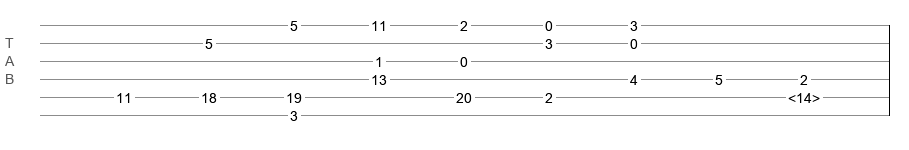0: (460, 54, 468, 64), (545, 18, 553, 28), (630, 36, 638, 46)
1: (375, 54, 383, 64)
11: (116, 90, 132, 100), (371, 18, 387, 28)
13: (371, 72, 387, 82)
18: (201, 90, 217, 100)
19: (286, 90, 302, 100)
2: (460, 18, 468, 28), (545, 90, 553, 100), (800, 72, 808, 82)
20: (456, 90, 472, 100)
3: (290, 108, 298, 118), (545, 36, 553, 46), (630, 18, 638, 28)
4: (630, 72, 638, 82)
5: (205, 36, 213, 46), (290, 18, 298, 28), (715, 72, 723, 82)
harmonic: (788, 90, 820, 100)
